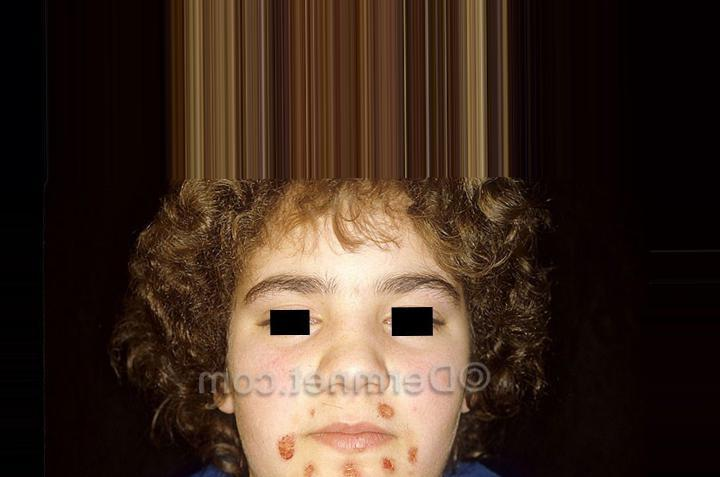Acne: (272, 430, 299, 463), (368, 404, 400, 429), (376, 456, 404, 476), (339, 458, 364, 476), (406, 443, 425, 465), (304, 459, 323, 477)
